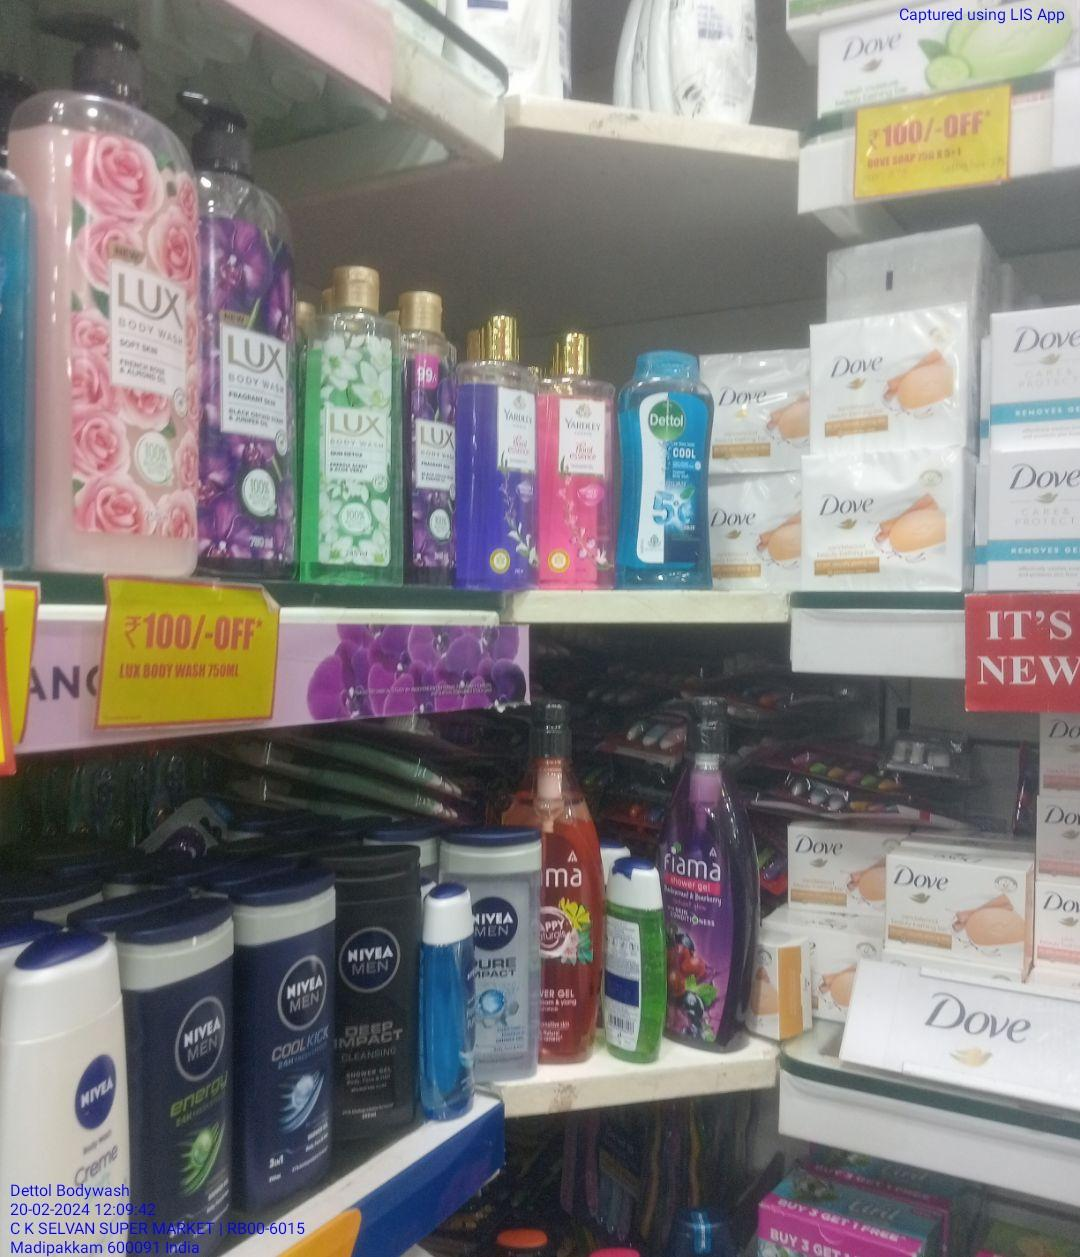Dettol_Bodywash_Cool: (621, 343, 710, 589)
Lux_Black_Orchid_Scent_and_Juniper_Oil_Body_Wash_245ML: (407, 288, 458, 588)
Lux_Body_Wash_Skin_Detox_Freesia_Scent_and_Alove_Vera_245ML: (300, 265, 398, 591)
